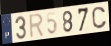3: (15, 15, 27, 41)
5: (46, 11, 59, 36)
7: (77, 7, 90, 34)
8: (62, 10, 74, 34)
C: (91, 6, 108, 30)
R: (28, 12, 45, 40)
